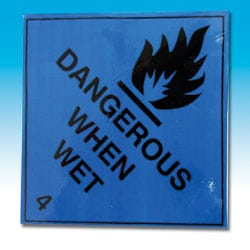DangerousWhenWet: (26, 17, 226, 223)
